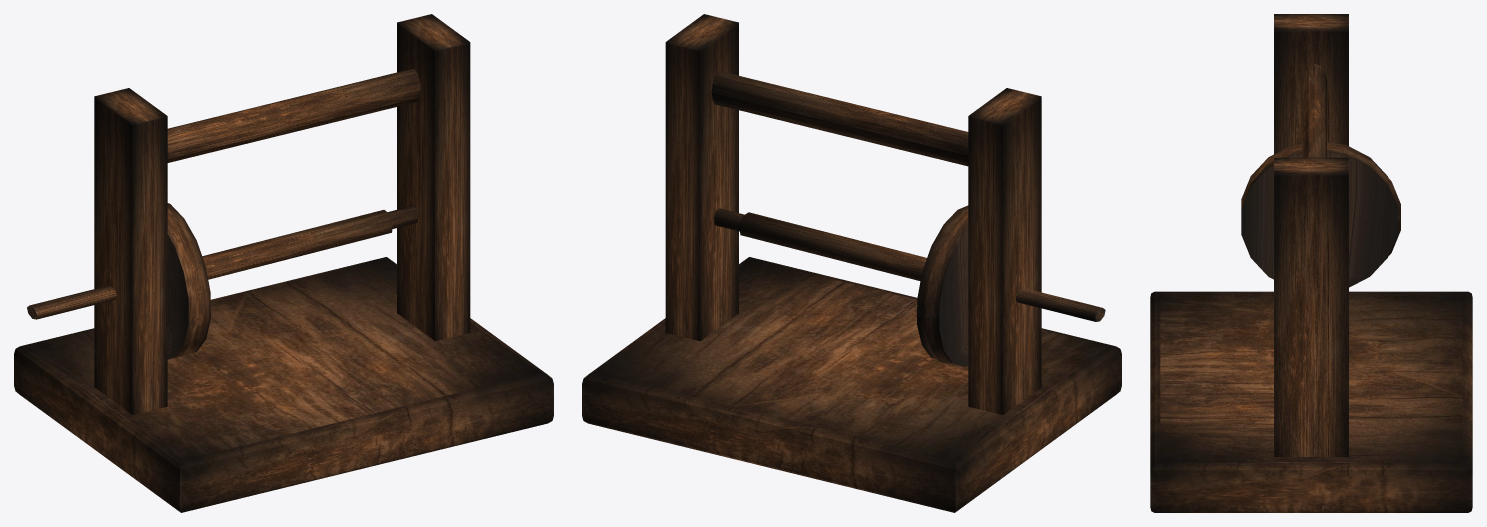
Rendered from panghabi.FBX.
3 renders of one model, left to right at view 1: azimuth 30°, elevation 25°; view 2: azimuth 150°, elevation 25°; view 3: azimuth 270°, elevation 25°, orthographic. The views are drawn at different scales.
Visible parts, largest first — view 1: Box002; view 2: Box002; view 3: Box002.
Boxes of the visible parts, x1=… form: Box002: x1=14, y1=14, x2=553, y2=512; Box002: x1=582, y1=14, x2=1121, y2=512; Box002: x1=1150, y1=14, x2=1472, y2=512.
Size of the model in its own units: 38.08 by 28.4 by 25.01.
